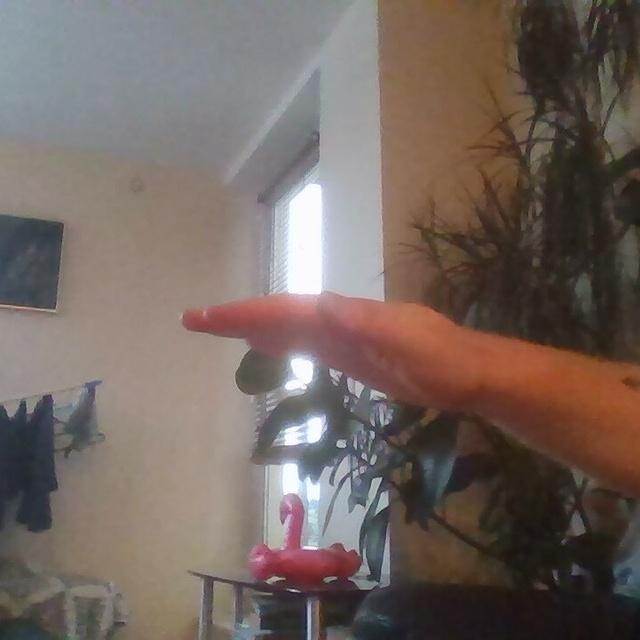papper: (172, 287, 491, 420)
